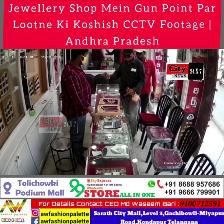person: (61, 50, 97, 167), (106, 49, 145, 140), (135, 50, 157, 112), (106, 49, 121, 69), (92, 50, 103, 69)
